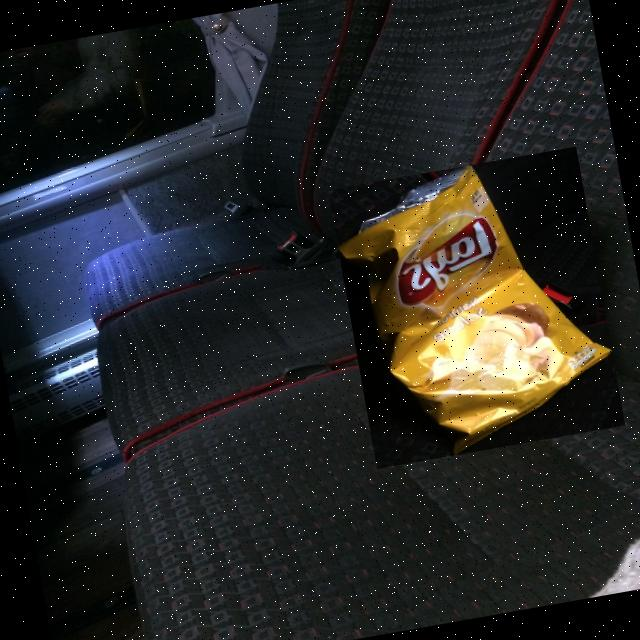Crisp packet: (338, 165, 612, 455)
